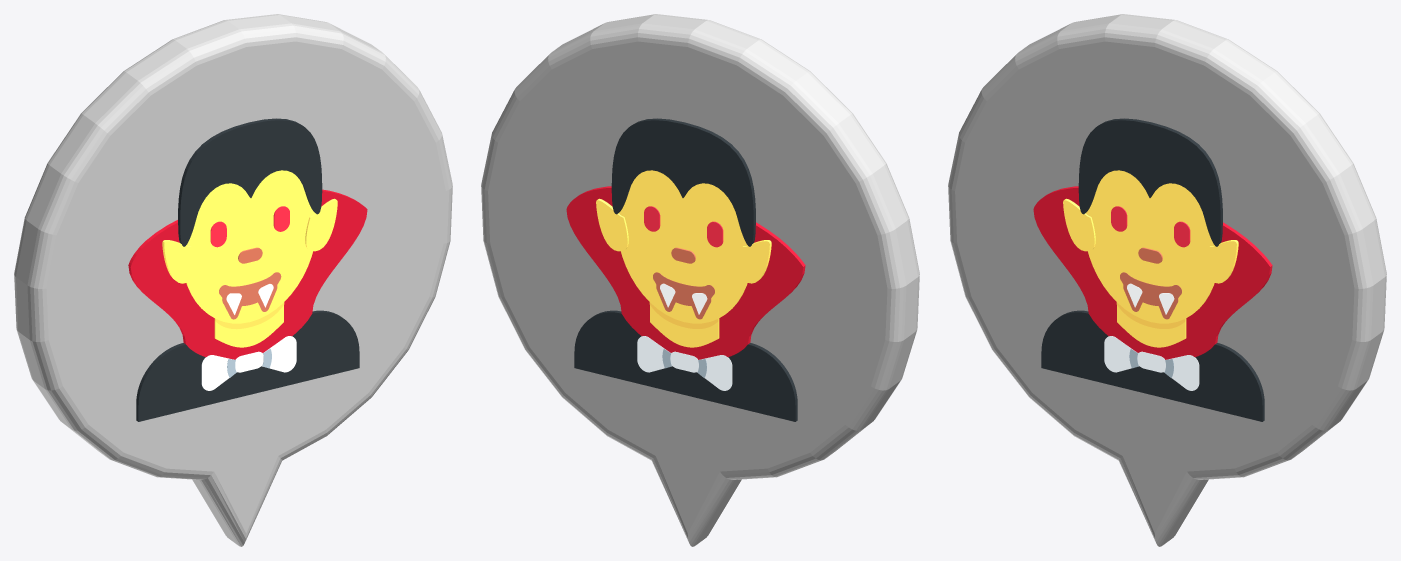
The model's file is man_vampire.glb.
3 renders of one model, left to right at view 1: azimuth 30°, elevation 25°; view 2: azimuth 150°, elevation 25°; view 3: azimuth 330°, elevation 25°, orthographic.
Parts seen in each view (by area): view 1: EmotionBubble; view 2: EmotionBubble; view 3: EmotionBubble.
Part boxes in pixels (box(x1,y1,x2,y2)): EmotionBubble: box(14, 14, 452, 546); EmotionBubble: box(481, 14, 919, 546); EmotionBubble: box(948, 14, 1386, 546).
Bounding box in the file's own units: 5.29 × 6.16 × 0.766.
